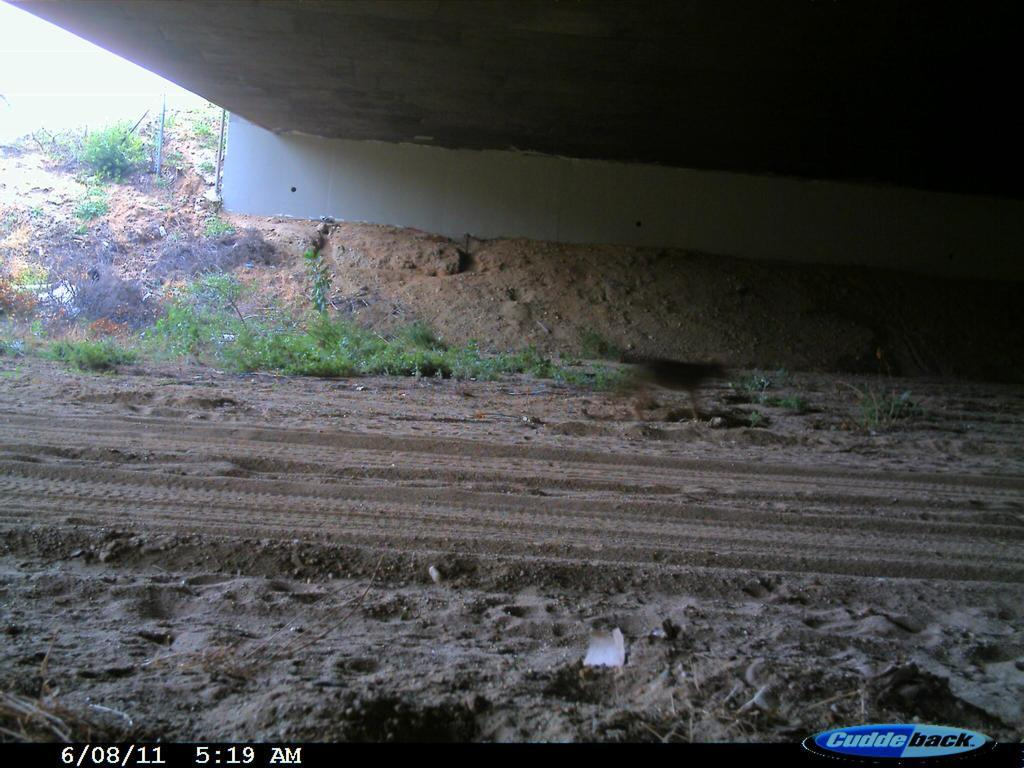coyote: (577, 340, 767, 436)
